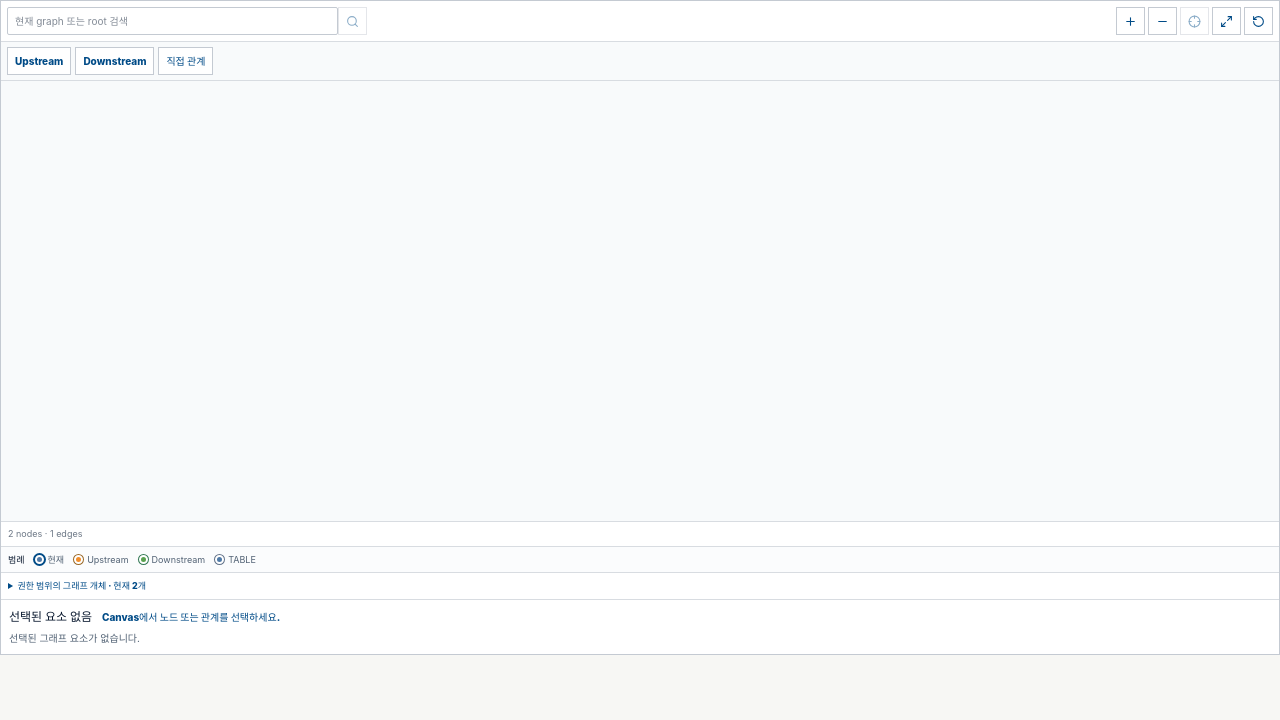
Test: CytoscapeReadGraph › resolves a missing local entity through the bounded server resolver
This screenshot has width=1280, height=720.
Type "remote root" into the field named "그래프 entity 검색". click: (172, 21)
box: 7,7 -> 338,35
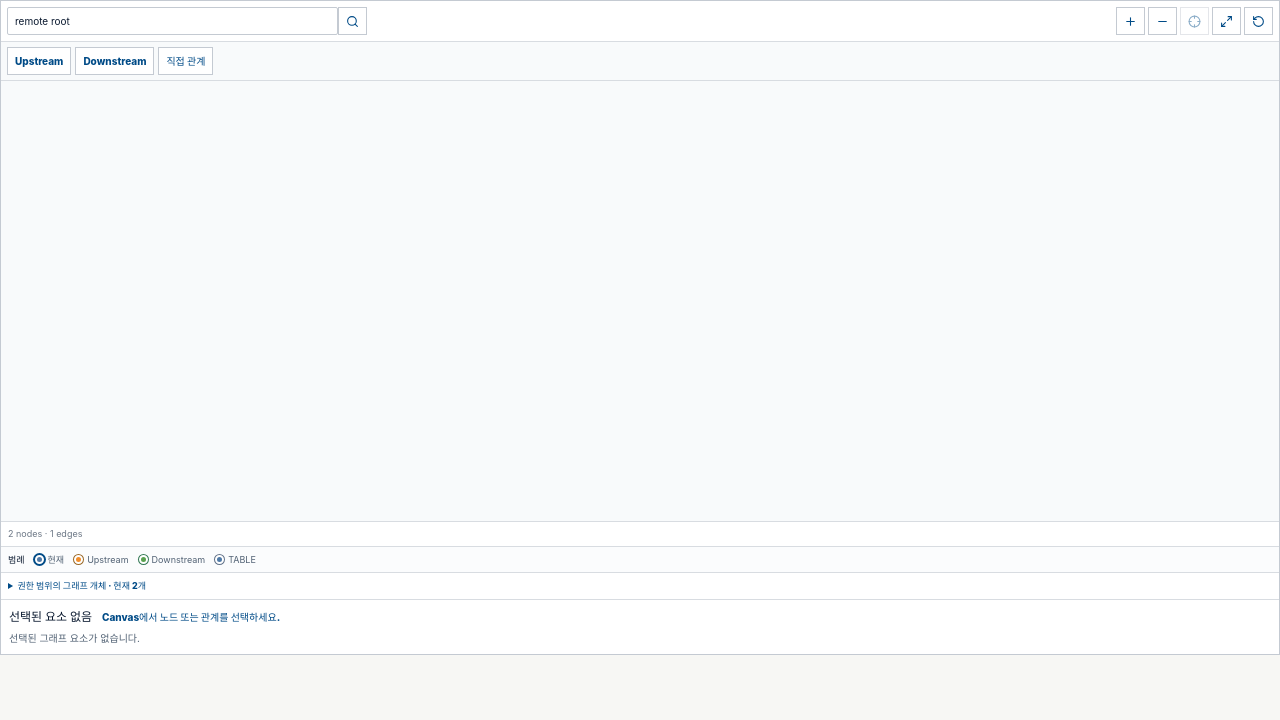
Click the button named "그래프 검색". click: (352, 21)
box: 338,7 -> 367,35
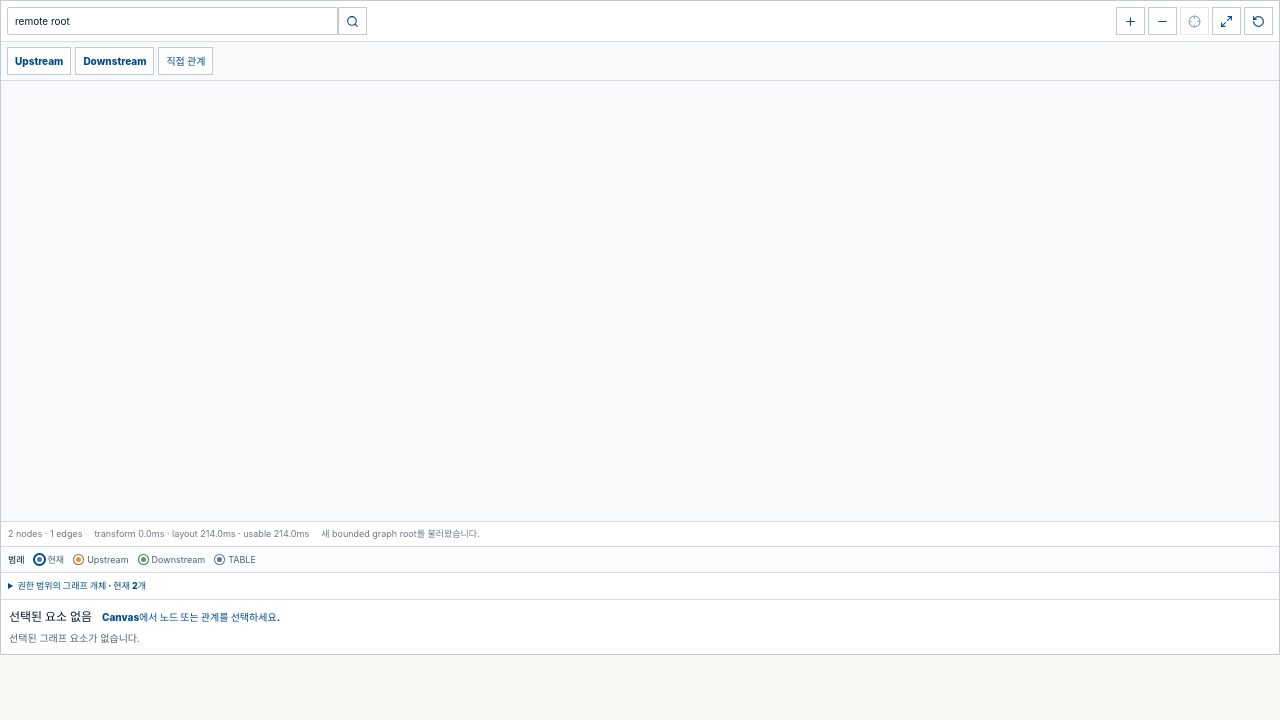
Expected: the text "새 bounded graph root를 불러왔습니다." is shown, 321,527 -> 480,540
